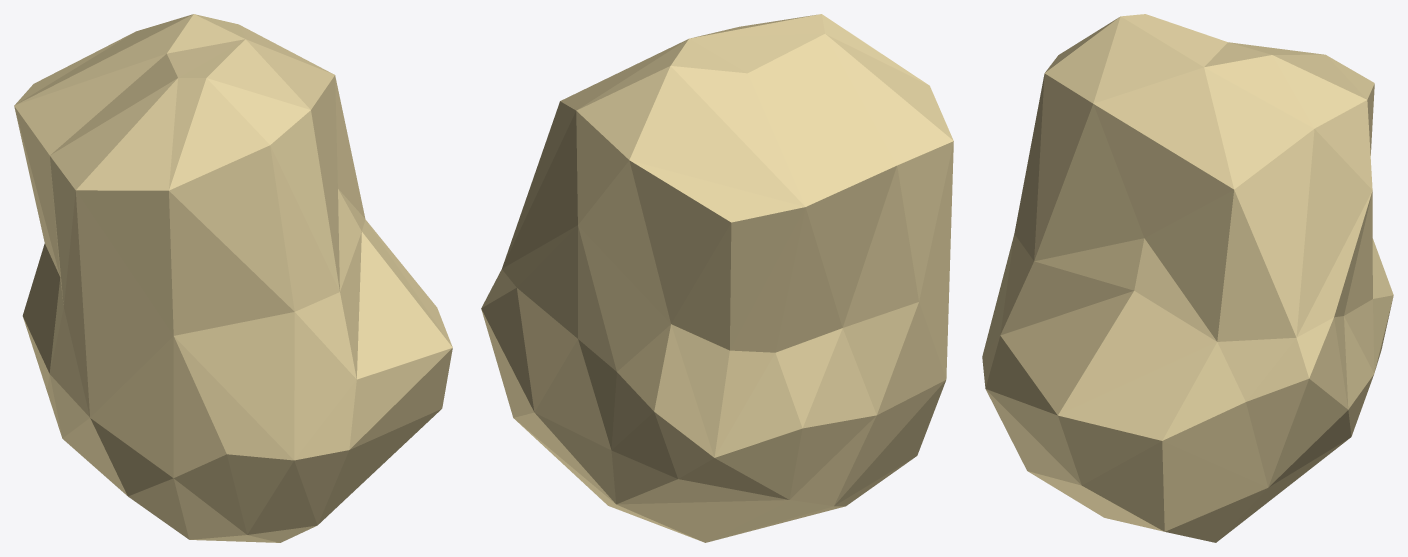
Rendered from Rock (79).fbx.
The picture shows the model from 3 angles, left to right: view 1: azimuth 30°, elevation 25°; view 2: azimuth 150°, elevation 25°; view 3: azimuth 270°, elevation 25°; orthographic projection. The views are drawn at different scales.
Parts seen in each view (by area): view 1: Asteroid78; view 2: Asteroid78; view 3: Asteroid78.
Part boxes in pixels (x1,y1,x2,y2): Asteroid78: (14,14,452,542); Asteroid78: (481,14,953,542); Asteroid78: (982,14,1393,542).
Bounding box in the file's own units: 95.66 × 116 × 91.06.
